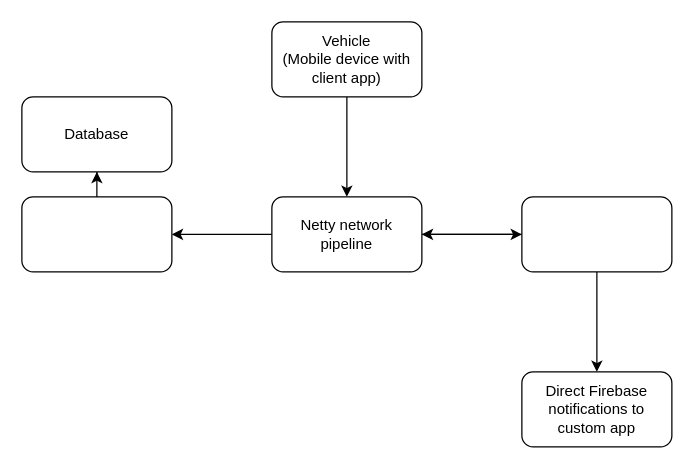
Image size: 694x469. Some labels were removed from this diagram. The shapes that lost their labels are listed below. From the top down, each one's centre as x and y in pixels, then its label:
At (x=96, y=234): "Cache and database connection".
At (x=596, y=234): "Events and Notifications".
